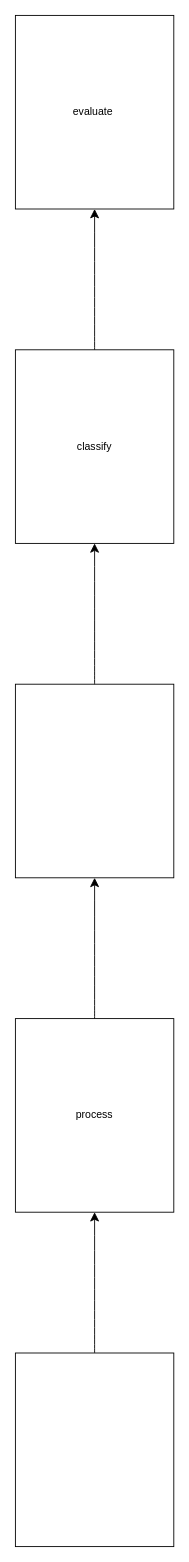
Some shapes in this 189 by 1562 pixel diagram are drawn without their labels. Each missing label, with the box of its shape:
feature selct: (15, 683, 174, 878)
load data: (15, 1352, 174, 1547)
